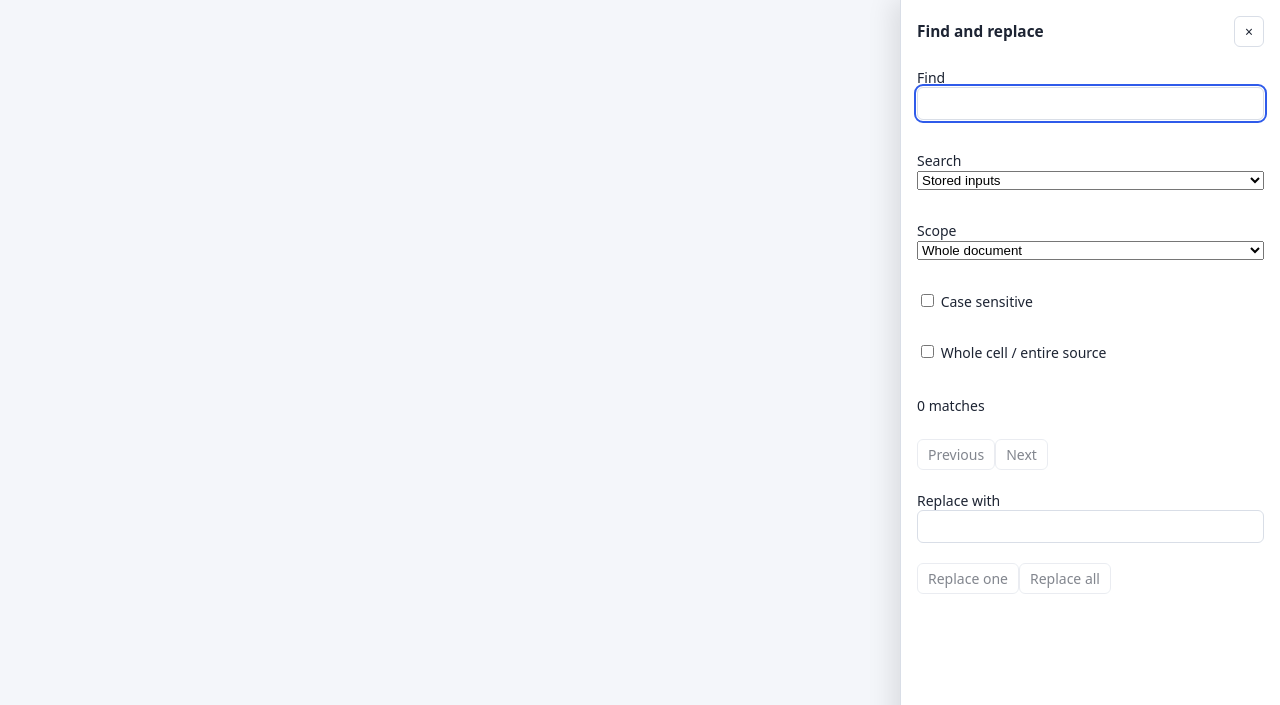
Scenario: reports syntax skips after replace all
Step 1. Type "cat" into the field named "Find text" → coordinates (1090, 103), box [917,86,1264,120]
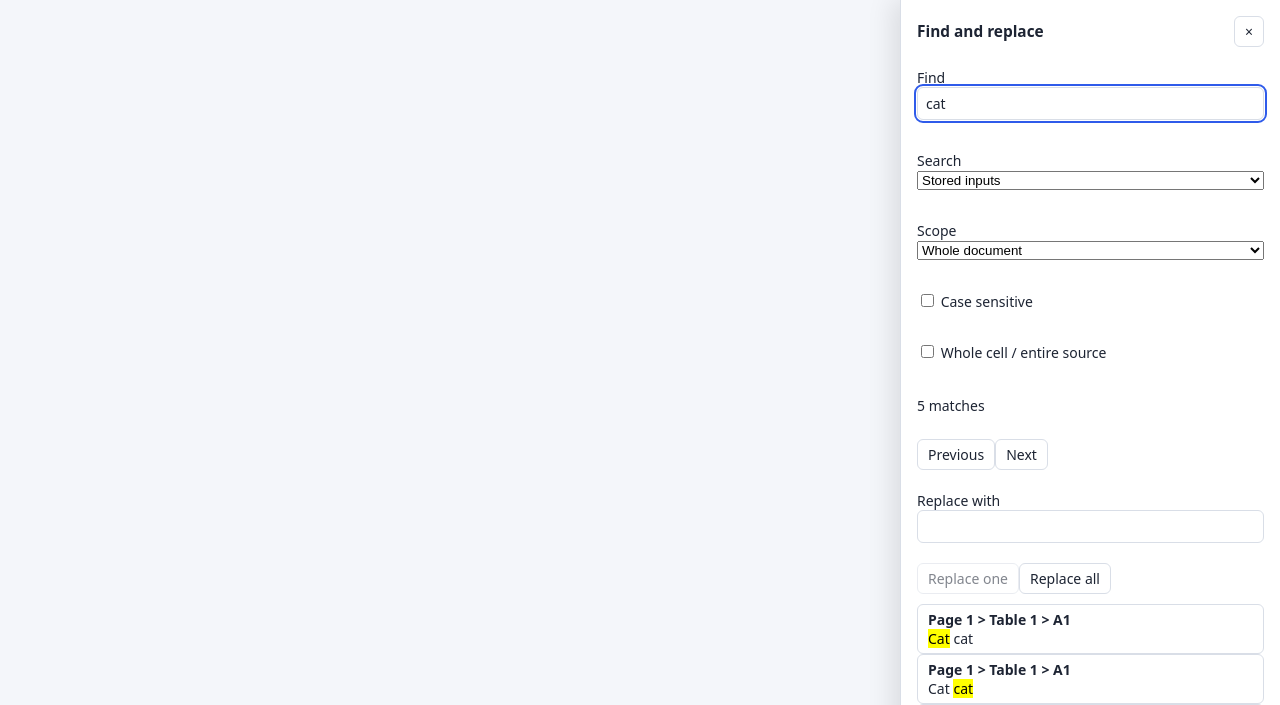
Step 2. Type "\"" into the field named "Replace with" → coordinates (1090, 526), box [917,510,1264,542]
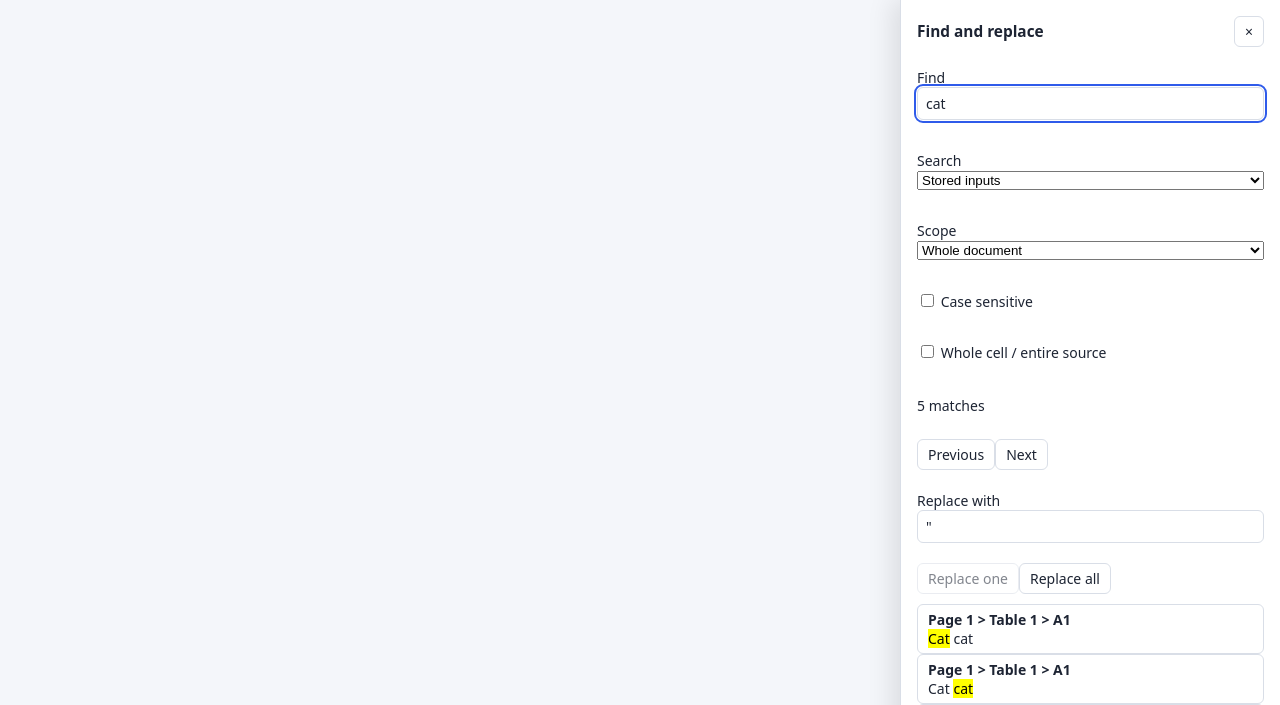
Step 3. Click the button "Replace all" → coordinates (1065, 578), box [1019,563,1111,594]
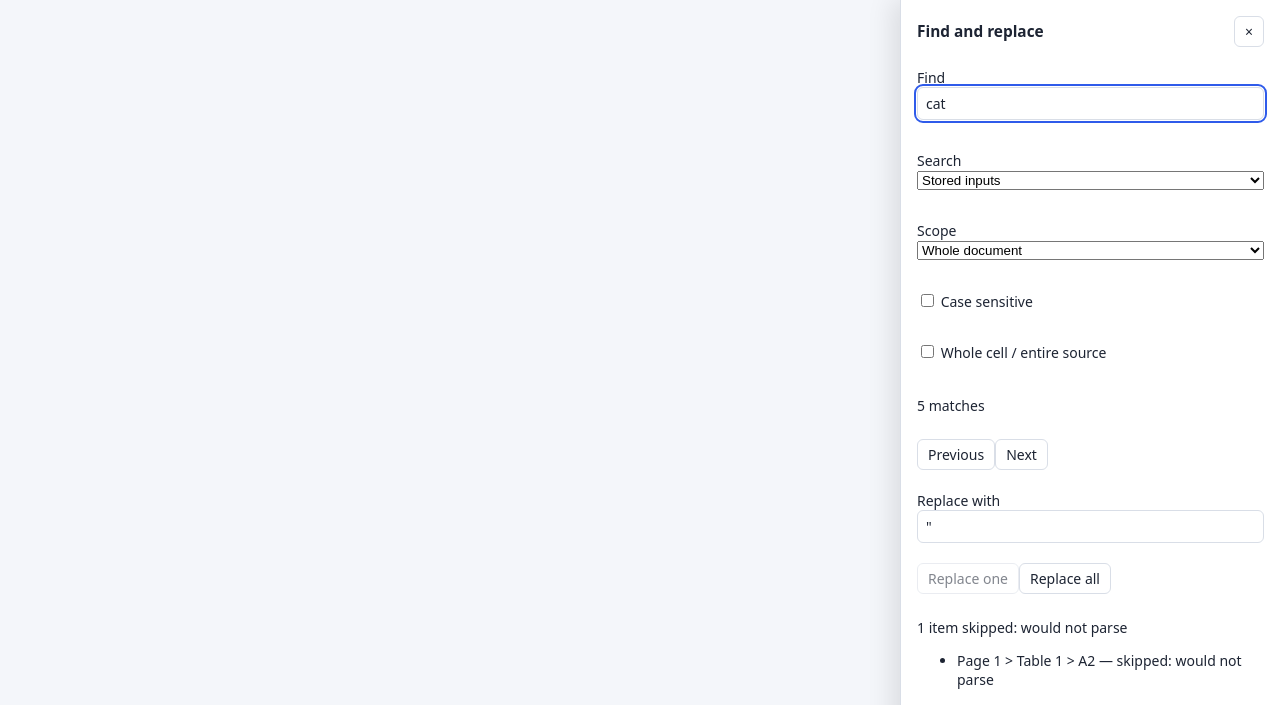
Now the element named "Skipped replacements" shows "1 item skipped: would not parse", box [917,618,1128,637]
Now the element named "Skipped replacements" shows "Page 1 > Table 1 > A2", box [957,651,1242,689]
